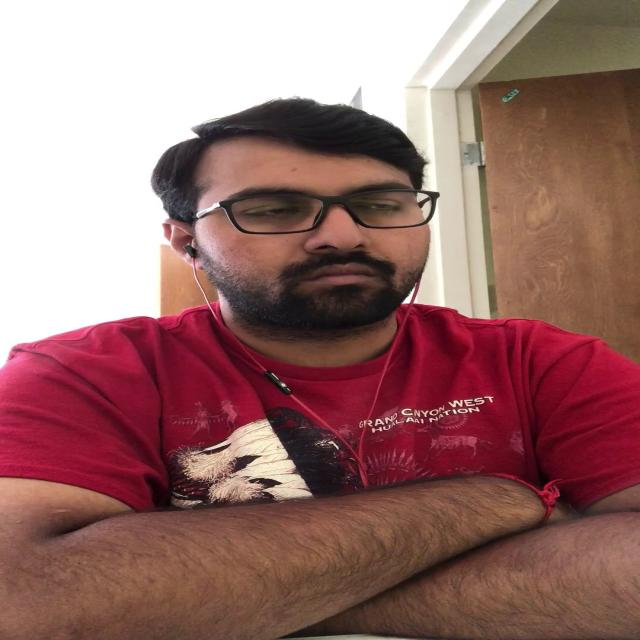Eyeclosed: (242, 197, 303, 226), (348, 191, 404, 218)
